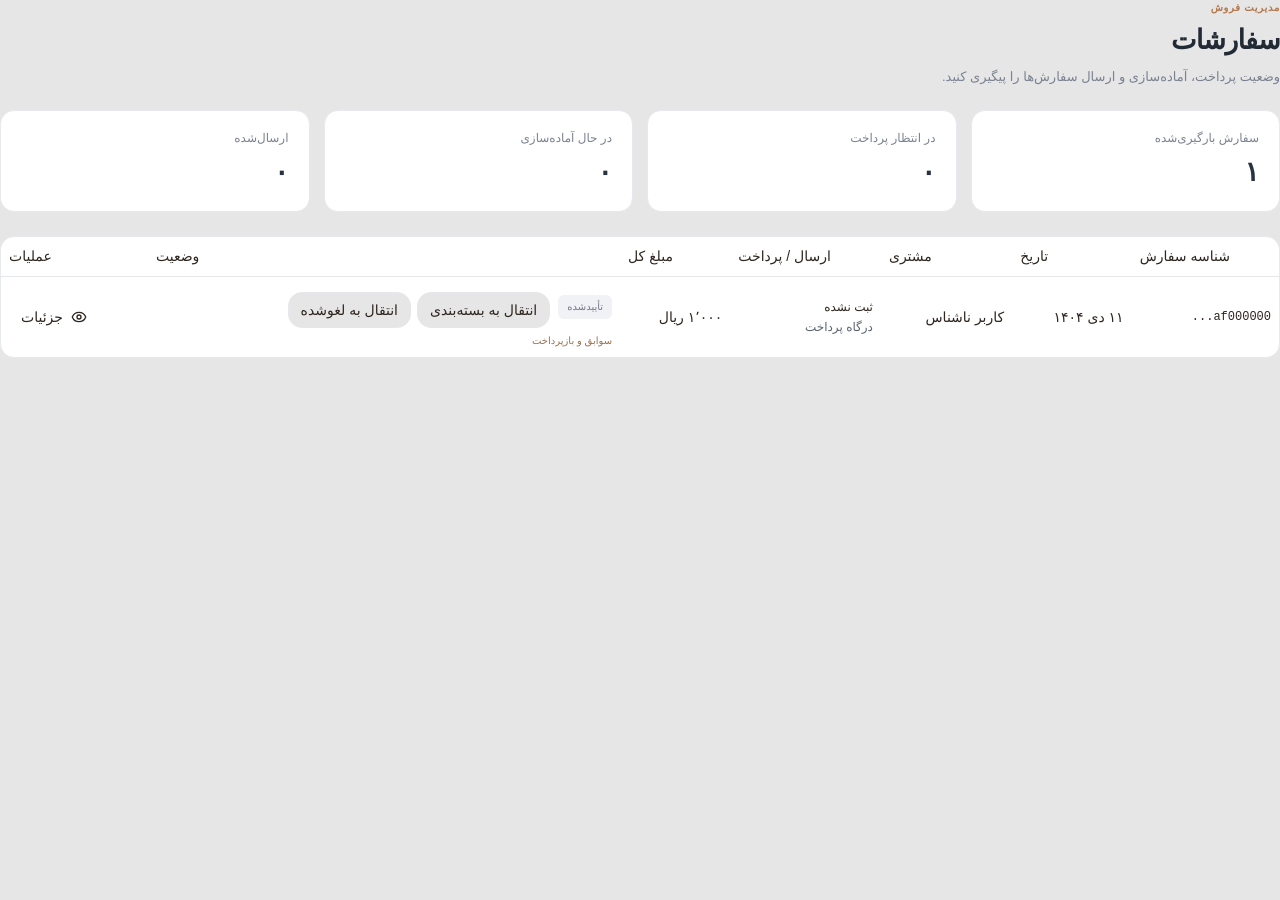
Test case: legacy order page uses the reviewed ERP workflow › requires reason and separate confirmation and never writes the browser table
The image size is (1280, 900).
Click the button "انتقال به بسته‌بندی": x=484, y=310 [417,292,550,328]
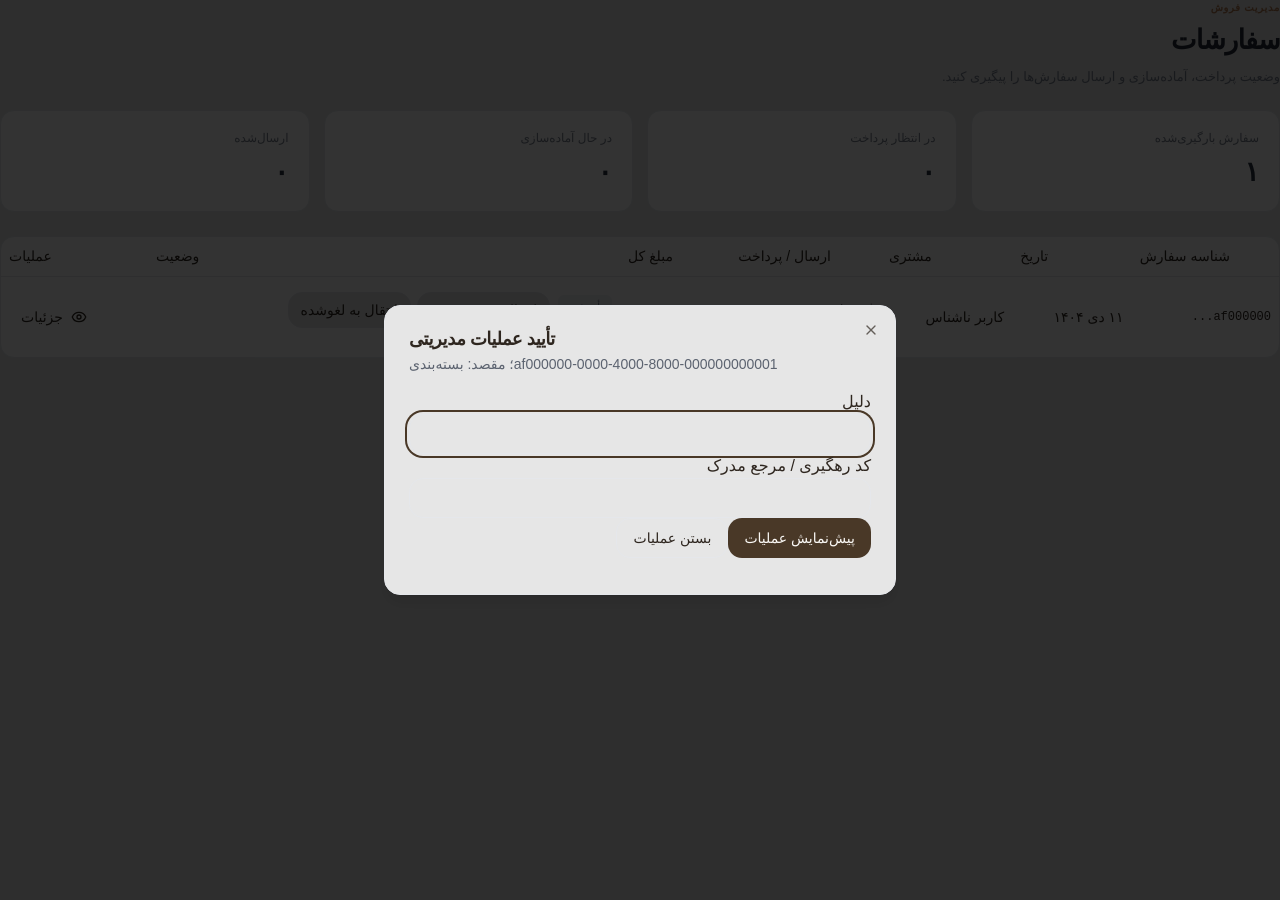
Expected: the button "انتقال به ارسال‌شده" is not shown
In the field named "دلیل عملیات": x=640, y=434 [409,414,871,454], type "packing fixture"
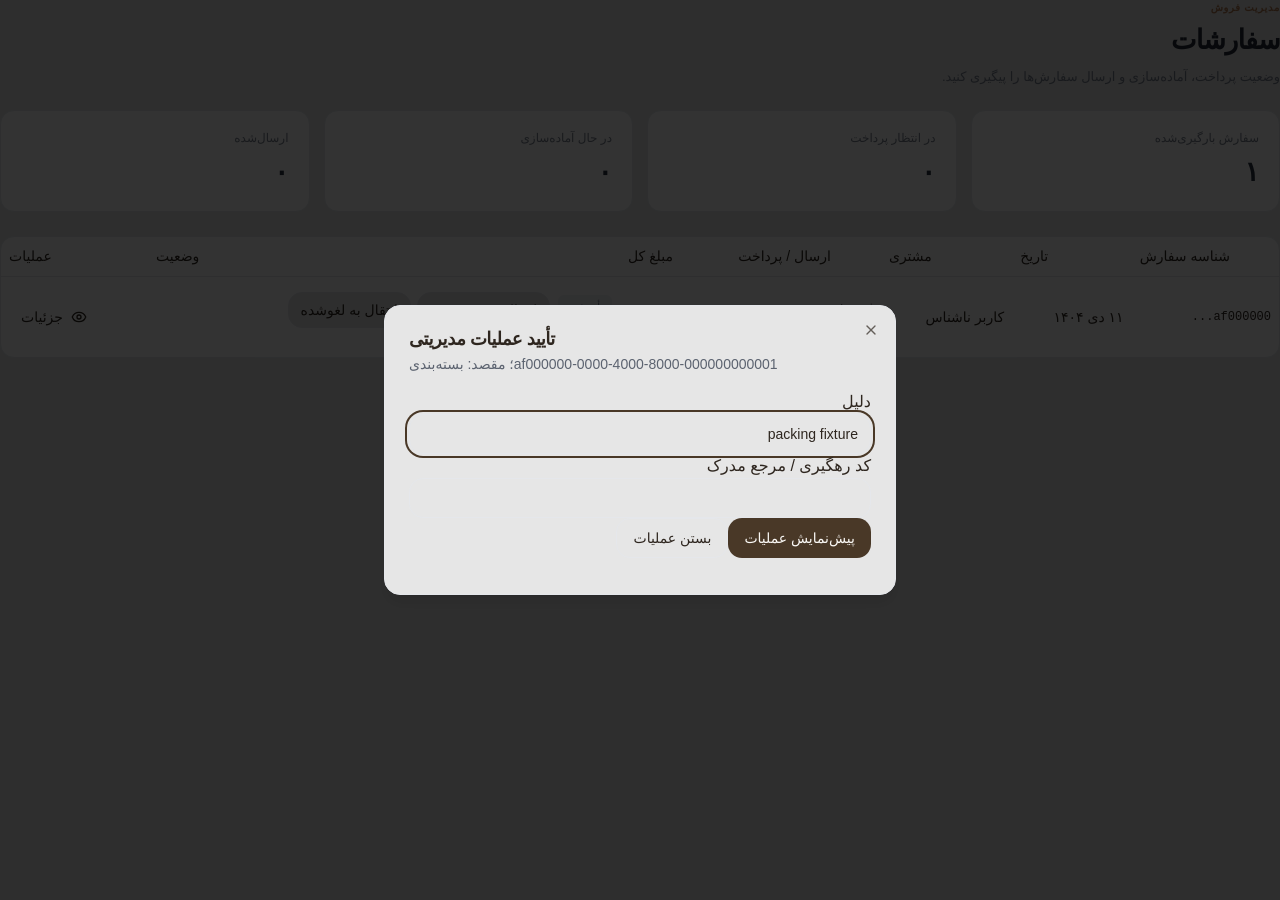
Click the button "پیش‌نمایش عملیات": x=800, y=538 [728,518,871,558]
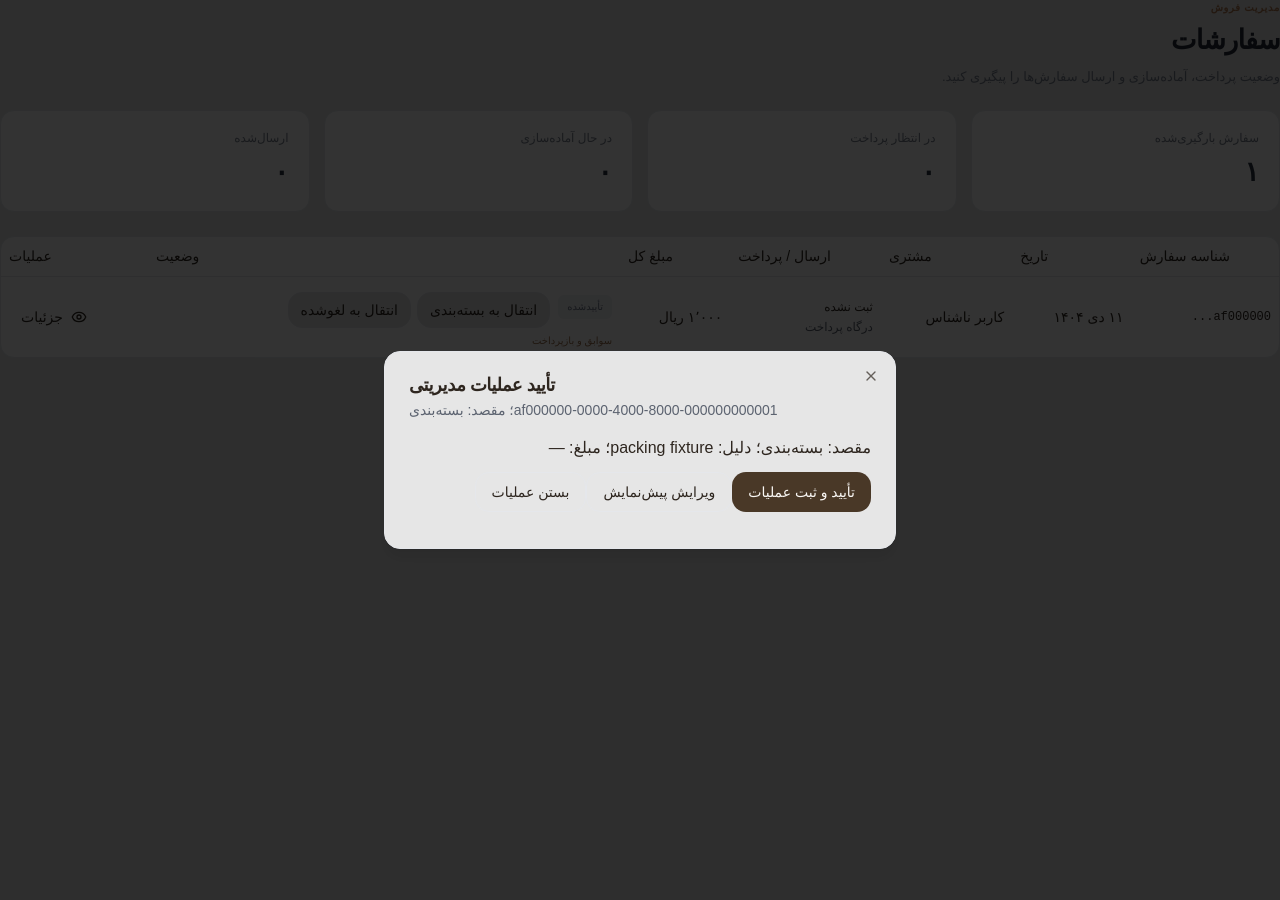
Click the button "تأیید و ثبت عملیات": x=802, y=492 [732,472,871,512]
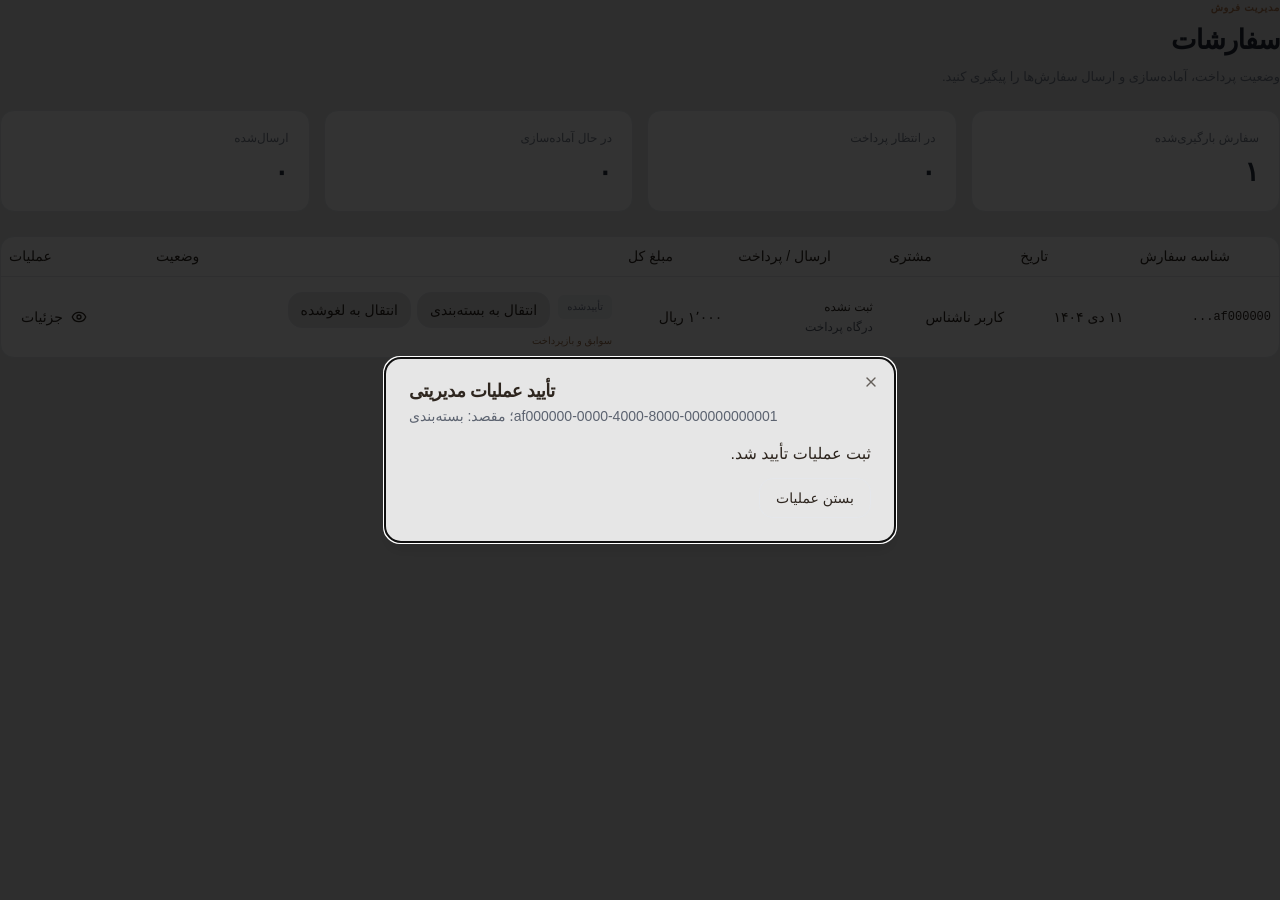
Expected: the text "ثبت عملیات تأیید شد." is shown, [730,445,871,462]
Click the button "بستن عملیات": x=815, y=498 [759,478,871,518]
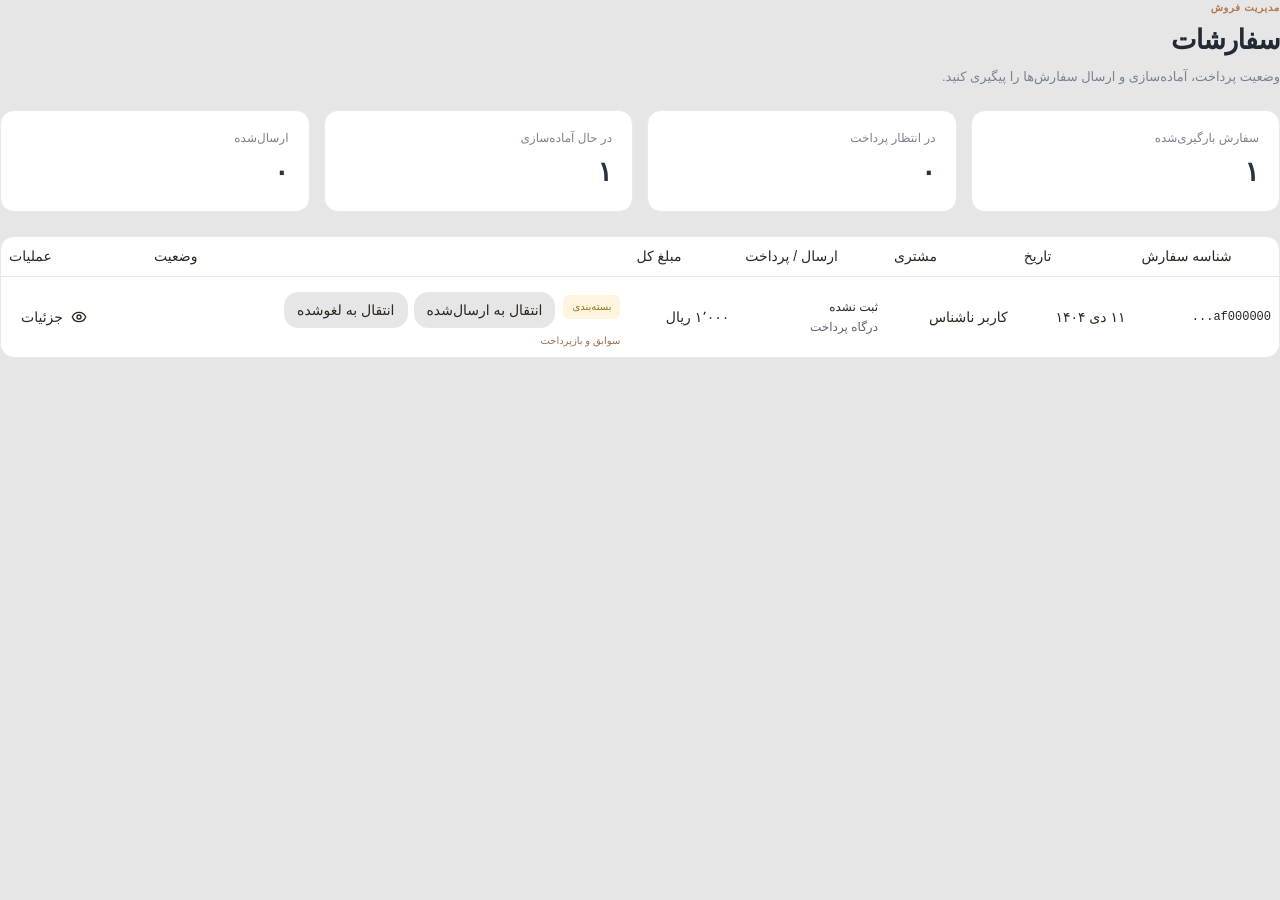
Expected: the button "انتقال به ارسال‌شده" is shown, [414,292,556,328]
